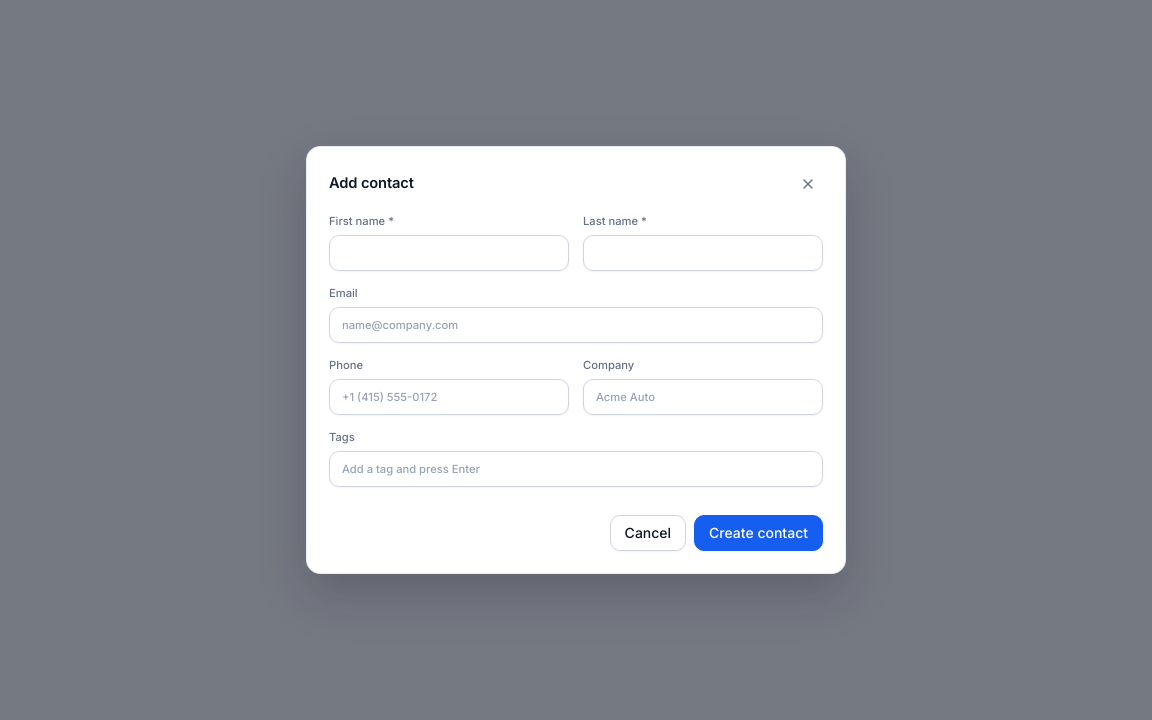
ContactFormModal › shows the duplicate-email error from the server with a link to the existing contact
Type "Ada" into the field labelled "First name *". click: (449, 253)
box: [329,235,569,271]
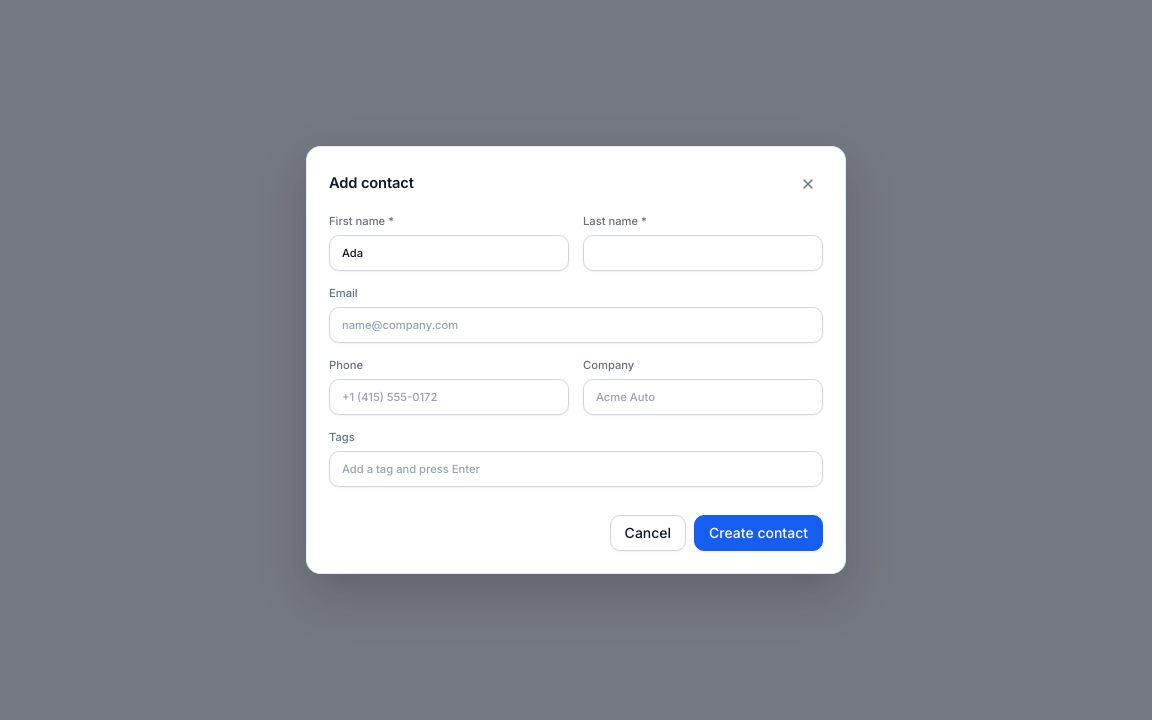
Type "Byron" into the field labelled "Last name *". click: (703, 253)
box: [583,235,823,271]
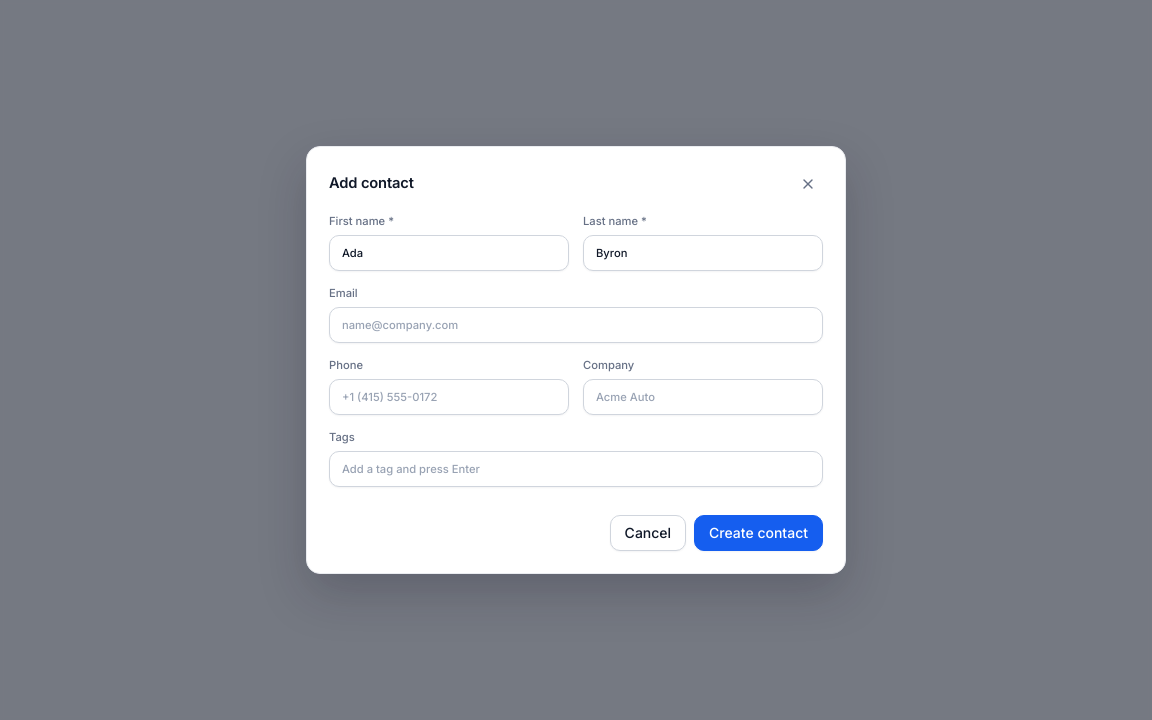
Type "ada@x.io" into the field named "email". click: (576, 325)
box: [329,307,823,343]
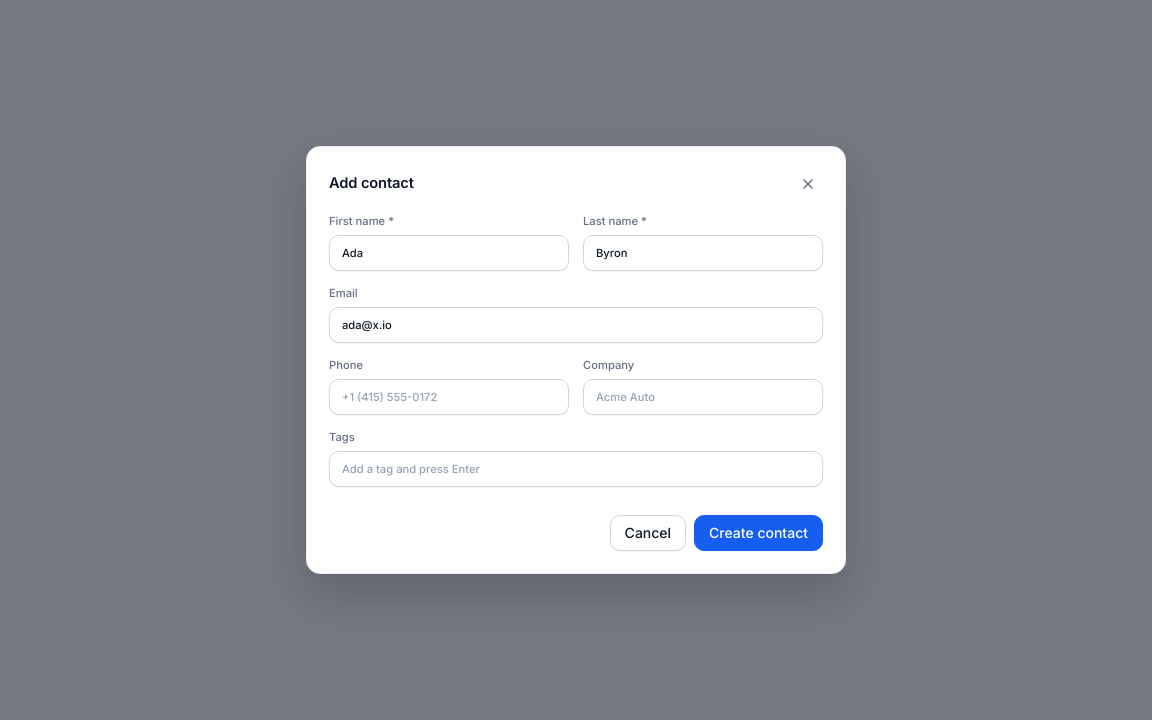
Submit the form, box [306,146,846,574]
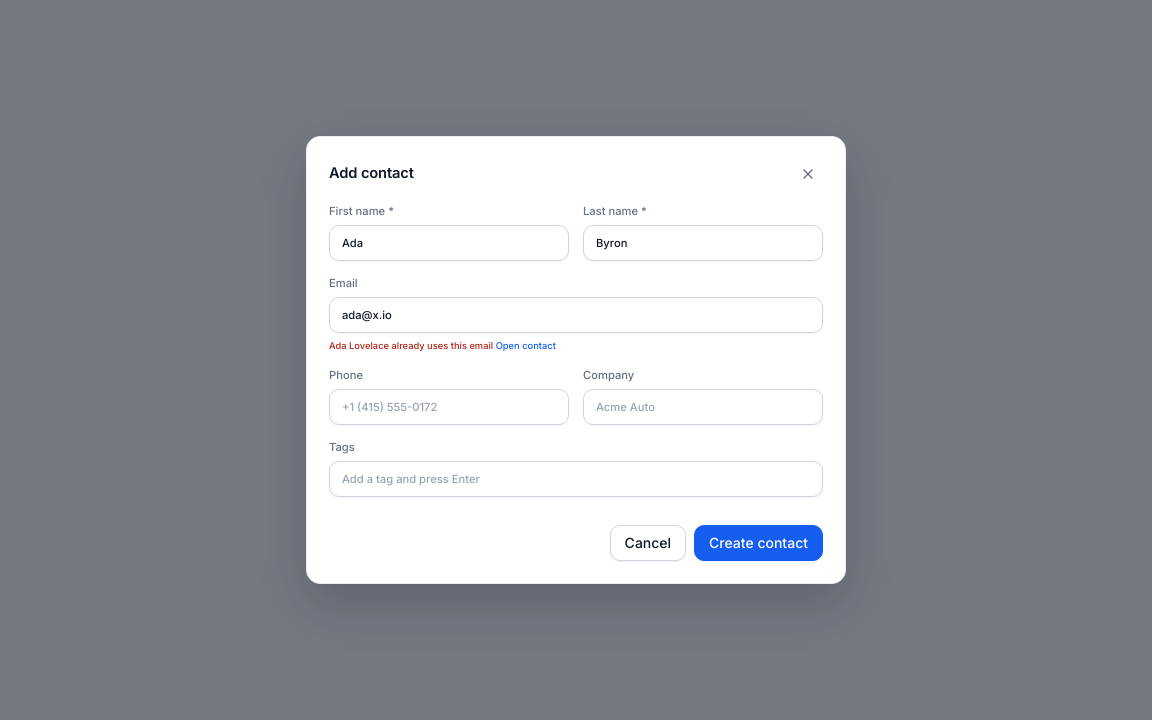
Expected: the text "Ada Lovelace already uses this email" is shown, [329,340,496,351]
Expected: the link "Open contact" is shown, [496,340,556,351]
